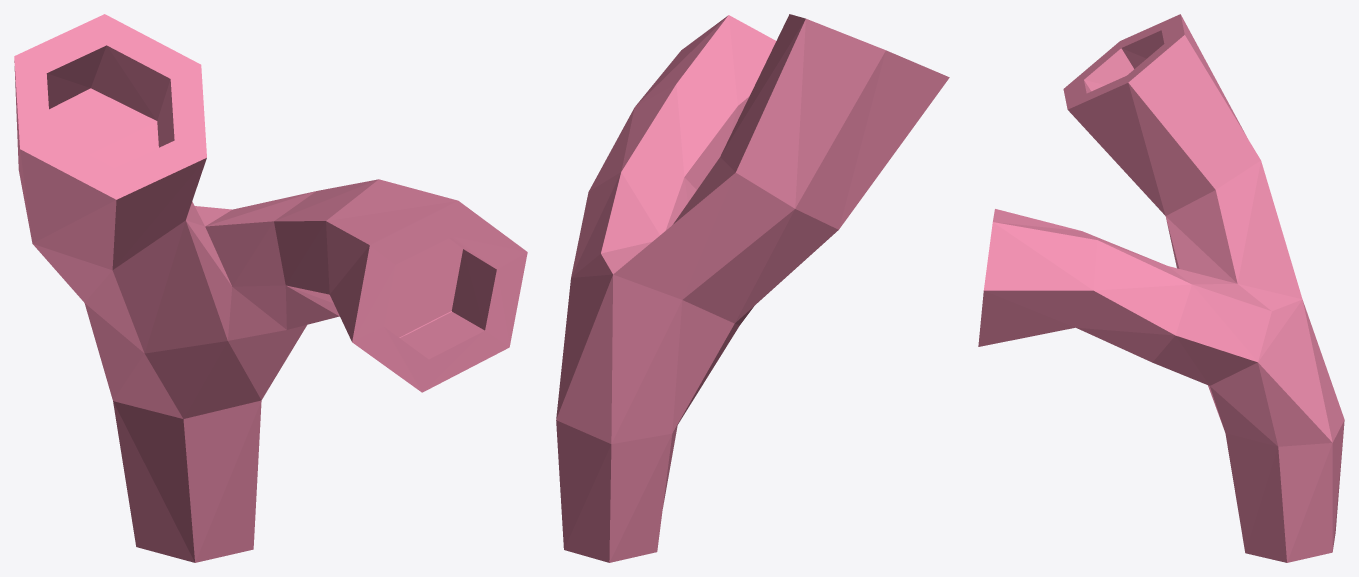
File: Coral_002.glb
3 renders of one model, left to right at view 1: azimuth 30°, elevation 25°; view 2: azimuth 150°, elevation 25°; view 3: azimuth 270°, elevation 25°, orthographic. The views are drawn at different scales.
Parts seen in each view (by area): view 1: Coral_002; view 2: Coral_002; view 3: Coral_002.
Part boxes in pixels (x1,y1,x2,y2): Coral_002: (14, 14, 527, 562); Coral_002: (556, 14, 949, 562); Coral_002: (978, 14, 1344, 562).
Bounding box in the file's own units: 0.1807 × 0.2548 × 0.1876.
Materials: 1 (1 with a texture image).
